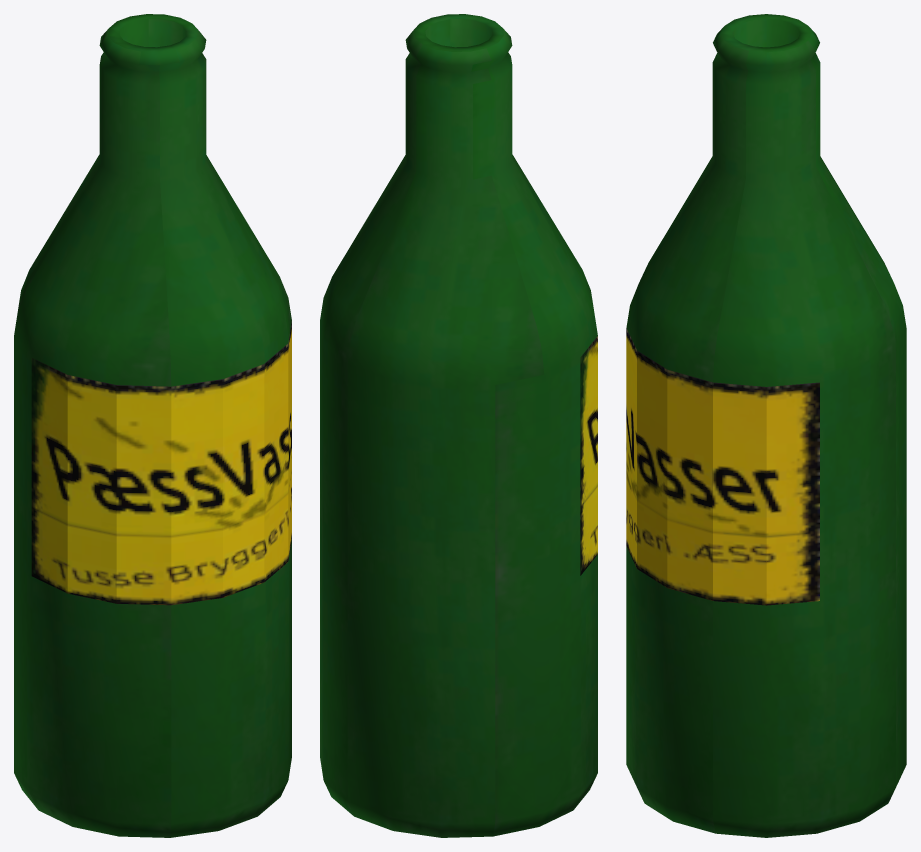
Rendered from OlFlaske.glb.
The picture shows the model from 3 angles, left to right: view 1: azimuth 30°, elevation 25°; view 2: azimuth 150°, elevation 25°; view 3: azimuth 270°, elevation 25°; orthographic projection.
Visible parts, largest first — view 1: OlFlaske; view 2: OlFlaske; view 3: OlFlaske.
Boxes of the visible parts, x1,y1,x2,y2 form: OlFlaske: [14, 14, 291, 837]; OlFlaske: [320, 14, 597, 837]; OlFlaske: [626, 14, 906, 837].
Bounding box in the file's own units: 0.6782 × 2.02 × 0.6782.
Materials: 1 (1 with a texture image).
